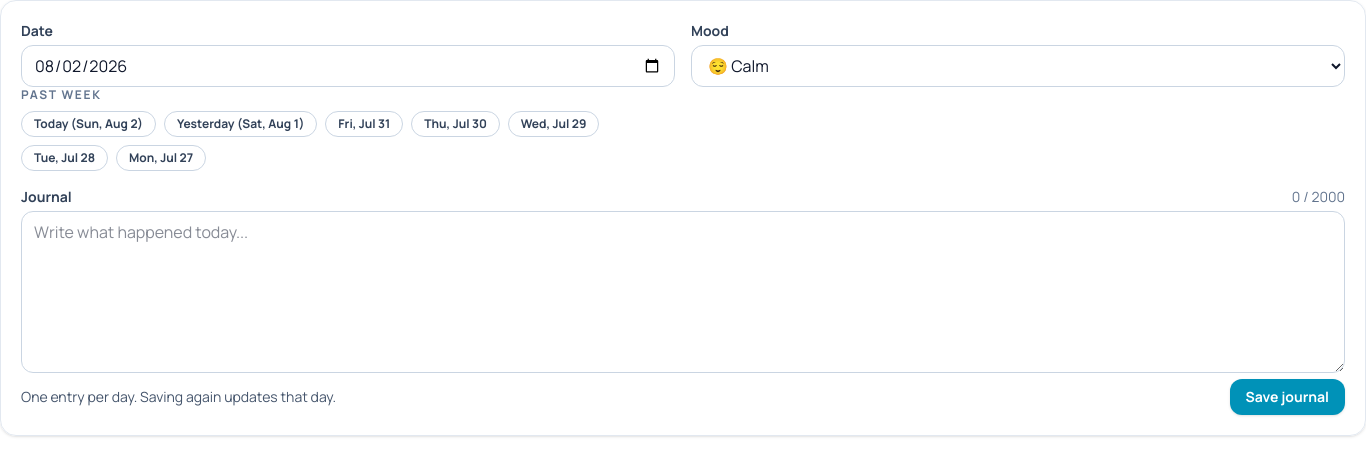
Scenario: JournalForm › shows a live character counter for the journal entry
Check: the text "0 / 2000" is shown, box [1292, 187, 1345, 207]
In the text box labelled "Journal 0 / 2000": (683,292) [21, 211, 1345, 373], type "hello"
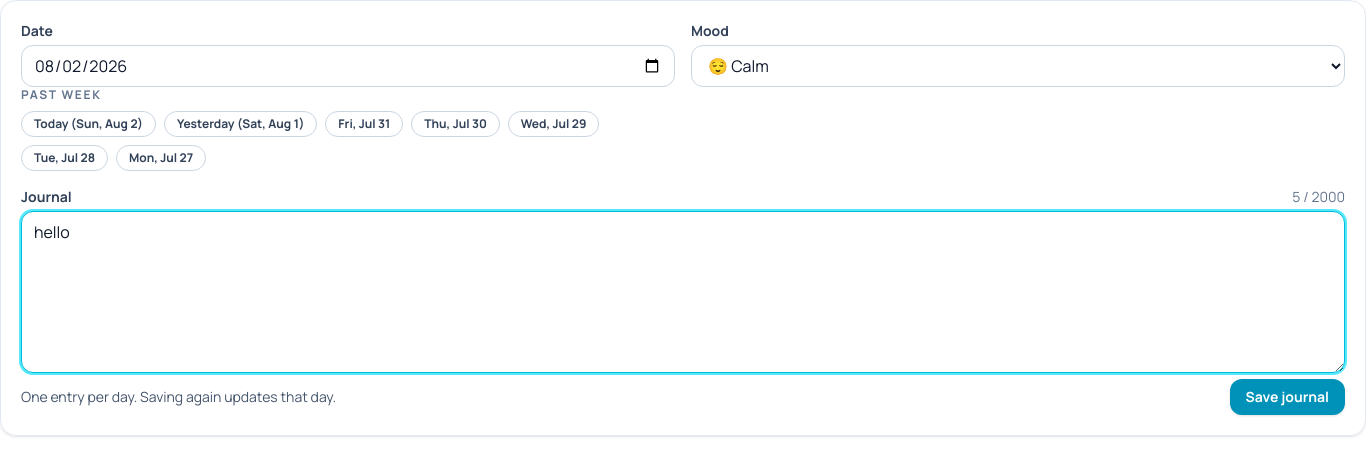
Check: the text "5 / 2000" is shown, box [1292, 187, 1345, 207]
